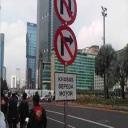NoVirarDireita: (50, 26, 80, 67)
NoVirarU: (52, 0, 78, 25)
